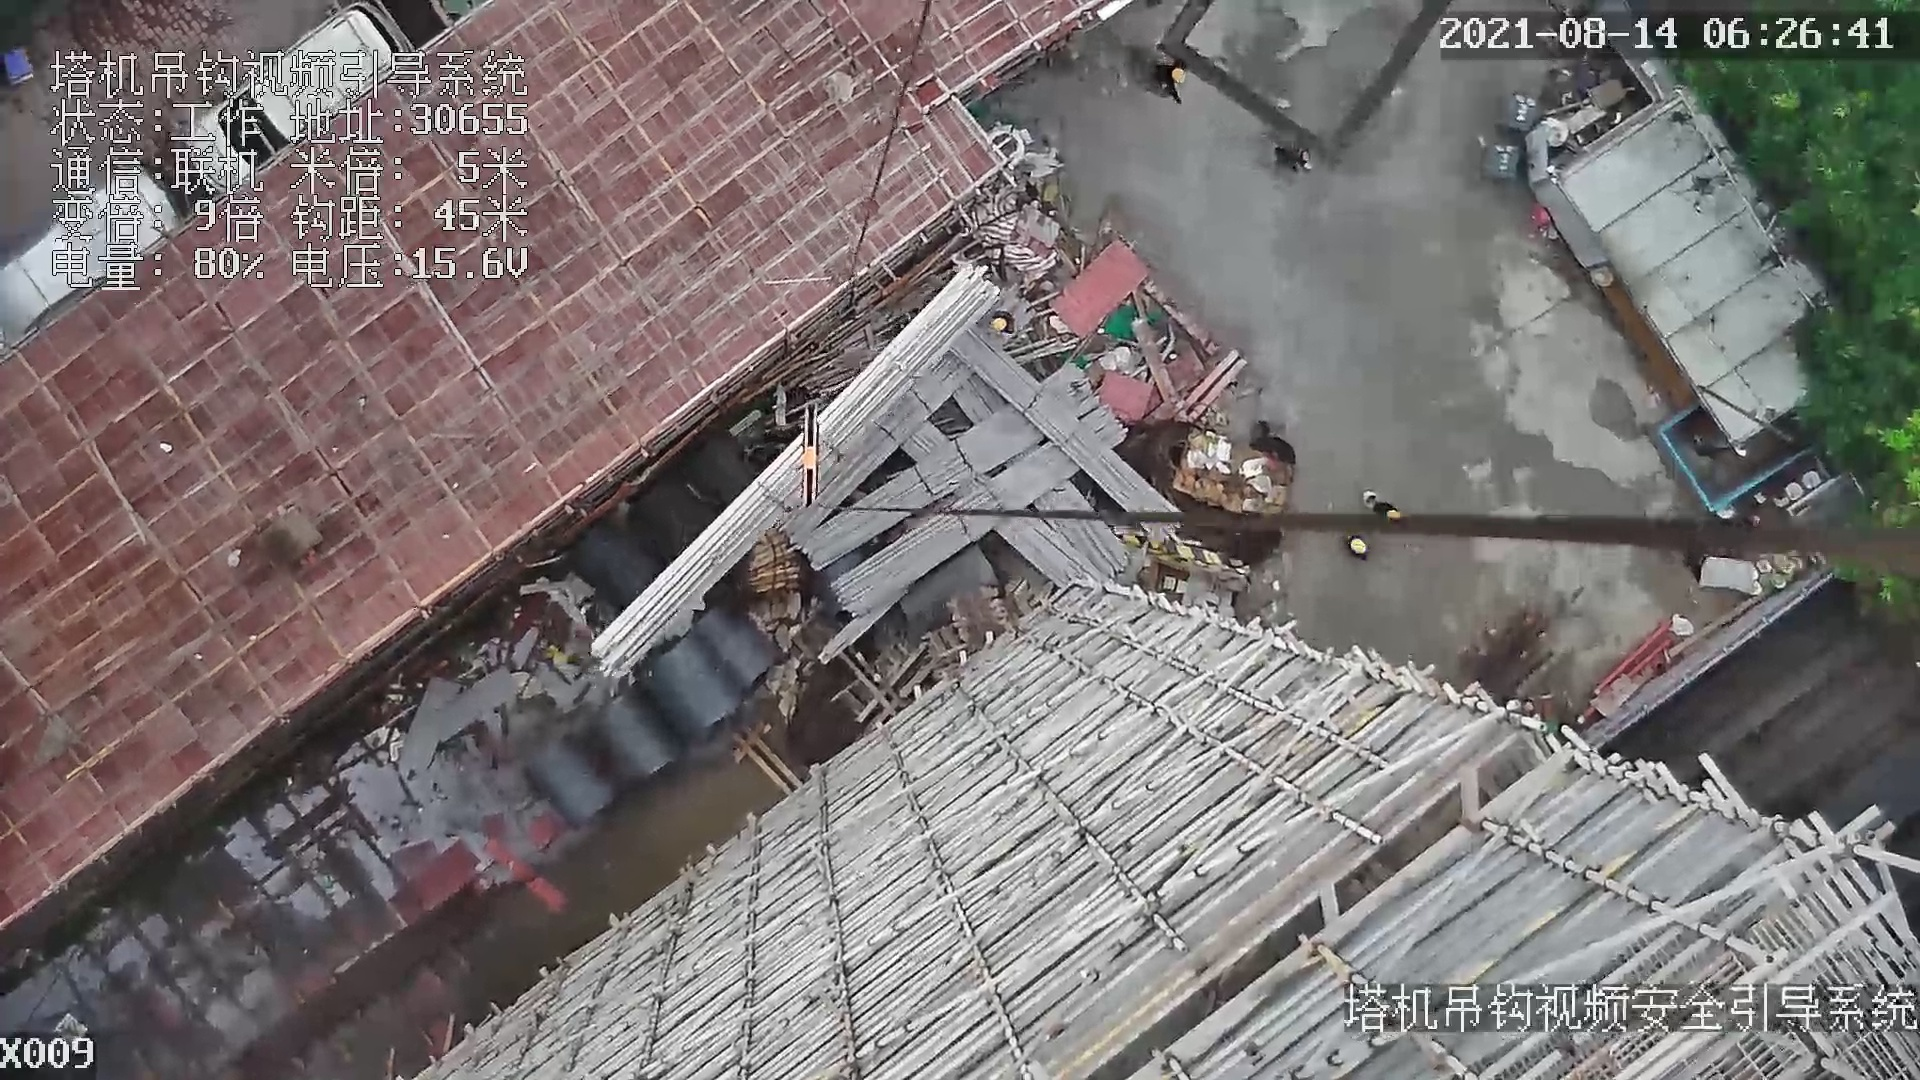helmet: (1348, 535, 1366, 558), (1168, 66, 1185, 84), (990, 317, 1006, 333)
hook: (796, 396, 820, 509)
person: (1142, 35, 1208, 110), (1354, 495, 1406, 518), (981, 303, 1012, 336), (1346, 530, 1376, 564)
